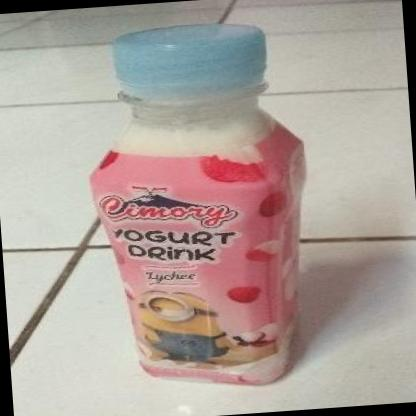plastic_bottles: (78, 17, 328, 401)
